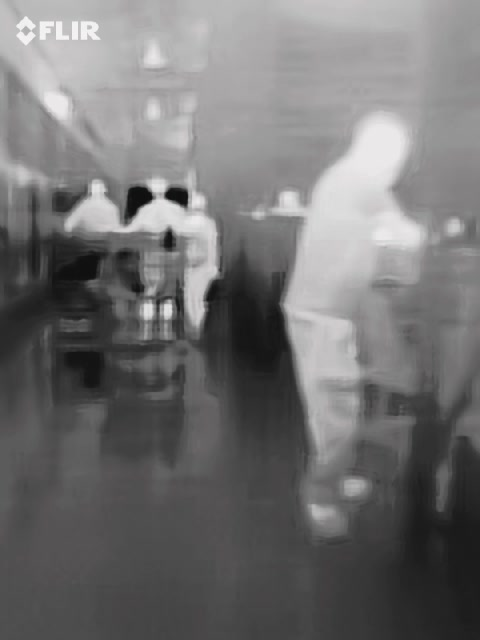head: (354, 111, 412, 182)
